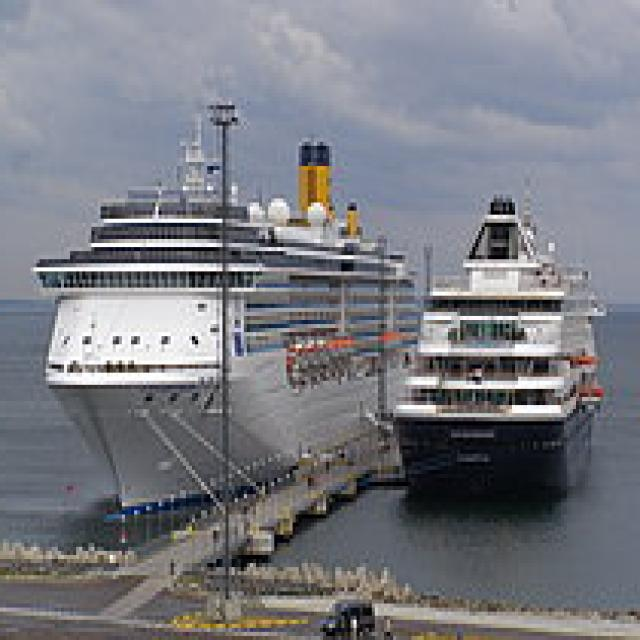Cruise: (34, 110, 426, 518), (393, 170, 610, 502)
